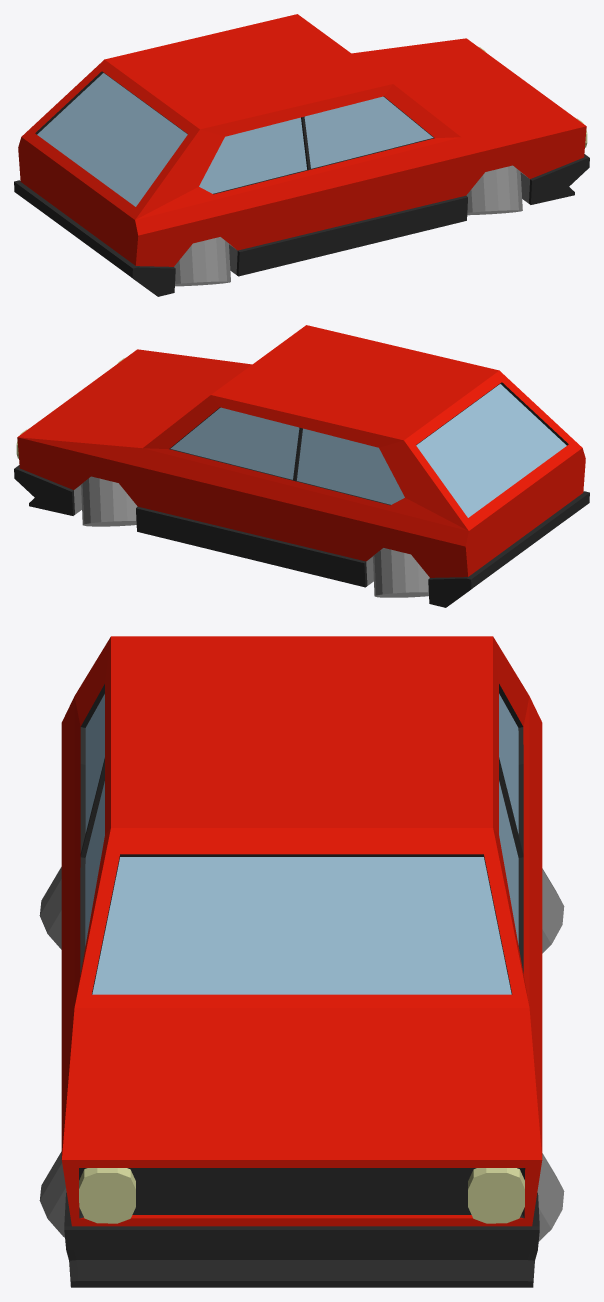
The model's file is Hatchback.fbx.
3 views of the same model, one above another, from view 1: azimuth 30°, elevation 25°; view 2: azimuth 150°, elevation 25°; view 3: azimuth 270°, elevation 25° (orthographic). The views are drawn at different scales.
Parts seen in each view (by area): view 1: Cube, Cylinder; view 2: Cube, Cylinder; view 3: Cube, Cylinder.
Part boxes in pixels (box(x1,y1,x2,y2)): Cube: box(14, 14, 589, 296); Cylinder: box(174, 165, 522, 286); Cube: box(14, 325, 589, 607); Cylinder: box(81, 476, 429, 597); Cube: box(61, 636, 542, 1287); Cylinder: box(39, 867, 564, 1241).
Size of the model in its own units: 581 by 202 by 288.
